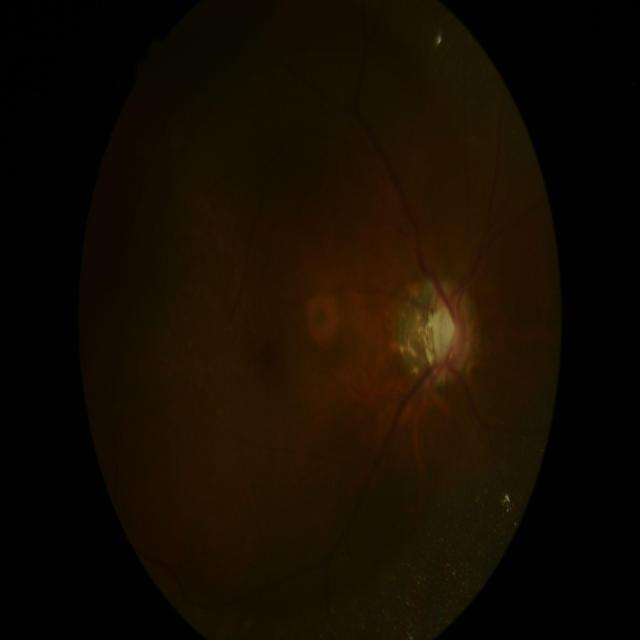cup: (433, 302, 458, 360)
disk: (432, 283, 476, 384)
